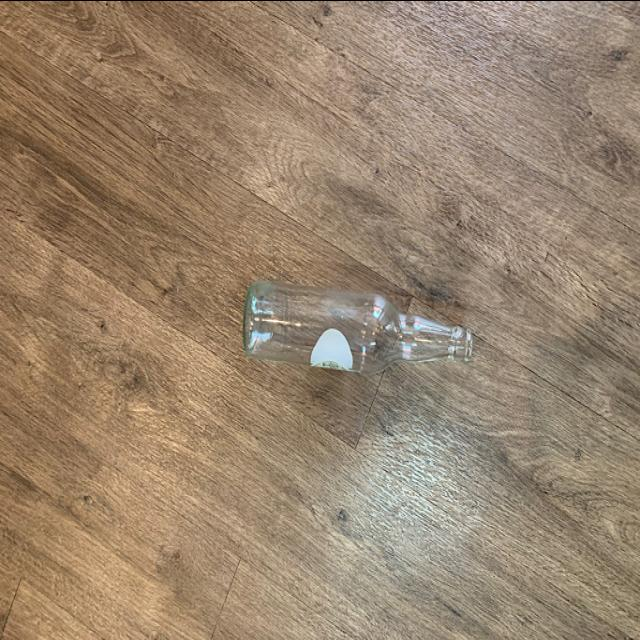litter: (242, 284, 474, 378)
